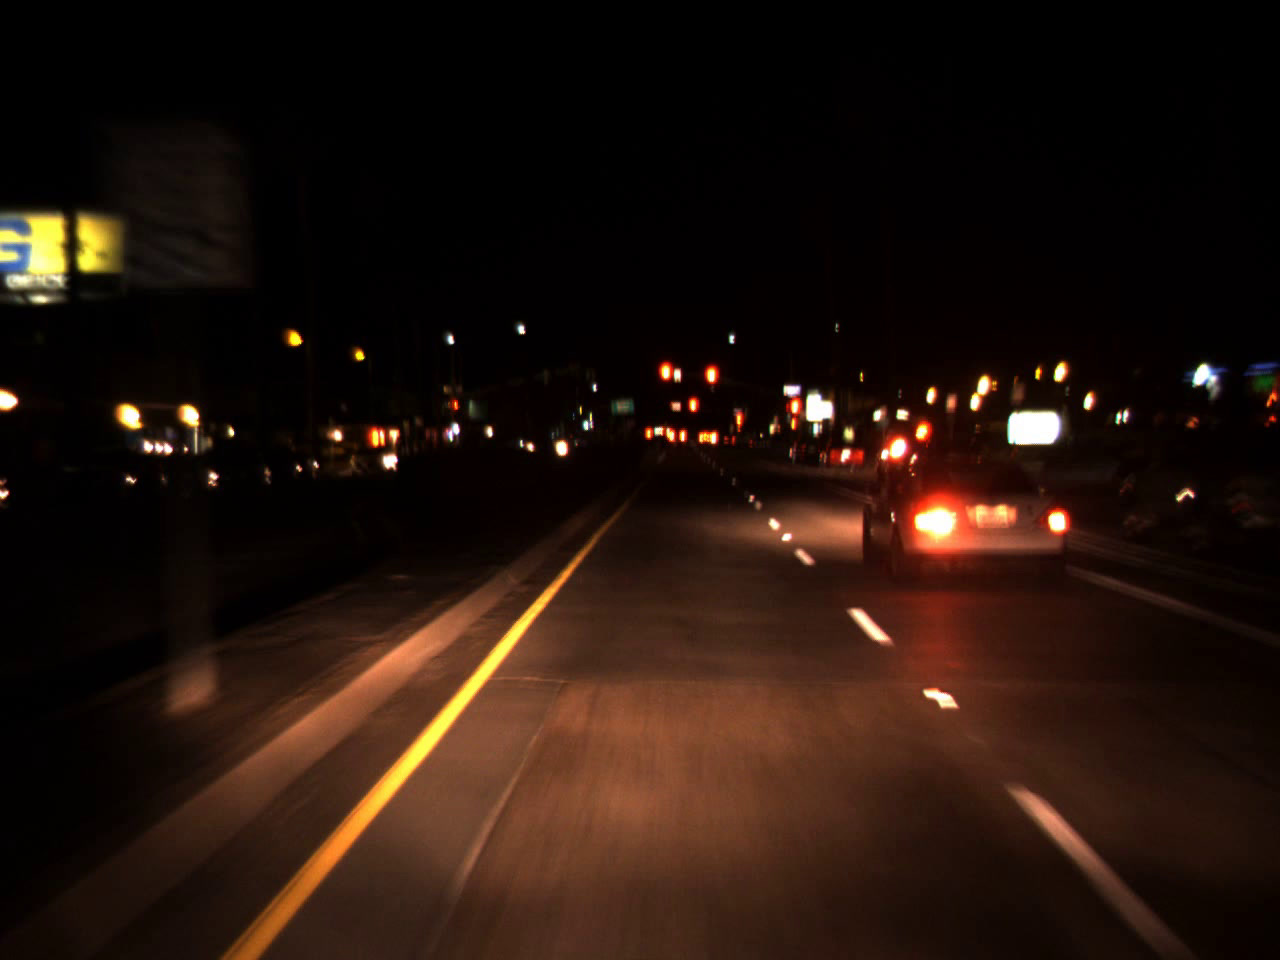stop: (656, 358, 677, 403), (701, 361, 720, 409), (685, 394, 701, 431), (787, 395, 803, 432), (734, 408, 743, 448), (453, 397, 459, 424)
